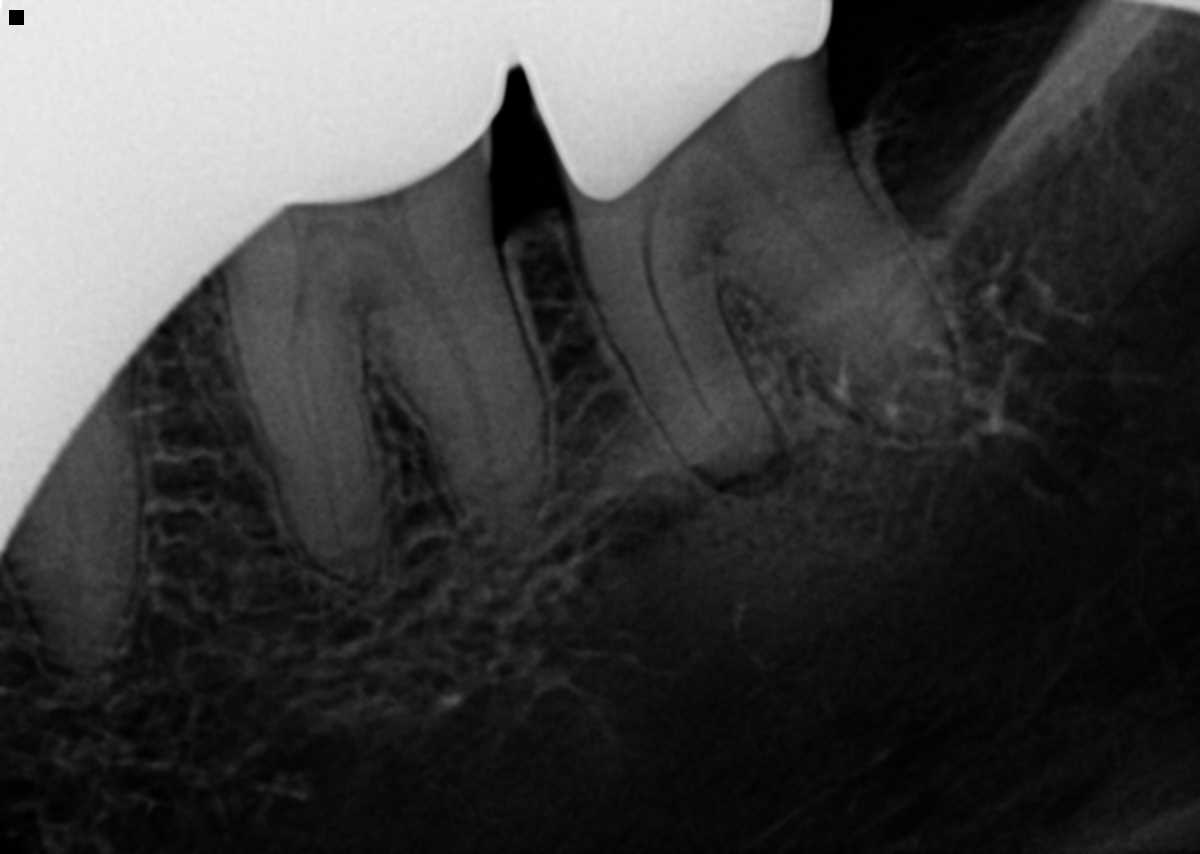Apical Lesion: (707, 419, 793, 497)
Distal Canal: (775, 193, 912, 379), (409, 274, 503, 543)
Distal Root: (722, 127, 964, 435), (358, 252, 547, 556)
Main Root: (1, 372, 142, 670)
Mesial Canal: (639, 236, 744, 460), (292, 286, 362, 576)
Mesial Root: (225, 281, 384, 588), (587, 221, 771, 477)
